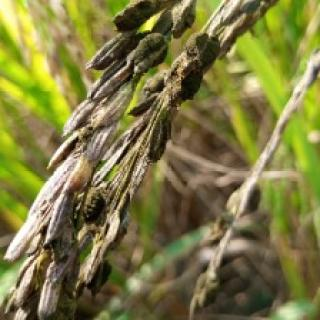Gosong-Palsu: (149, 23, 237, 106), (109, 0, 165, 28)
